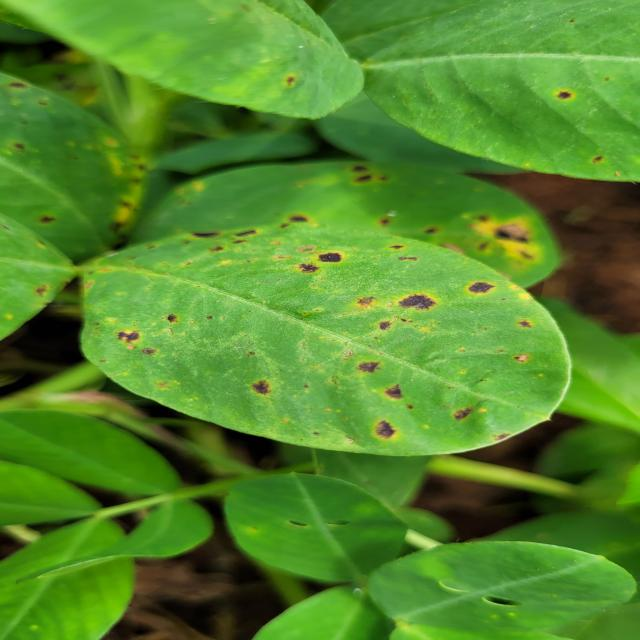Ground nut_healthy: (350, 540, 637, 640), (215, 464, 420, 582)
Ground nut_tikka leaf spot: (77, 224, 576, 459), (110, 154, 567, 300)
